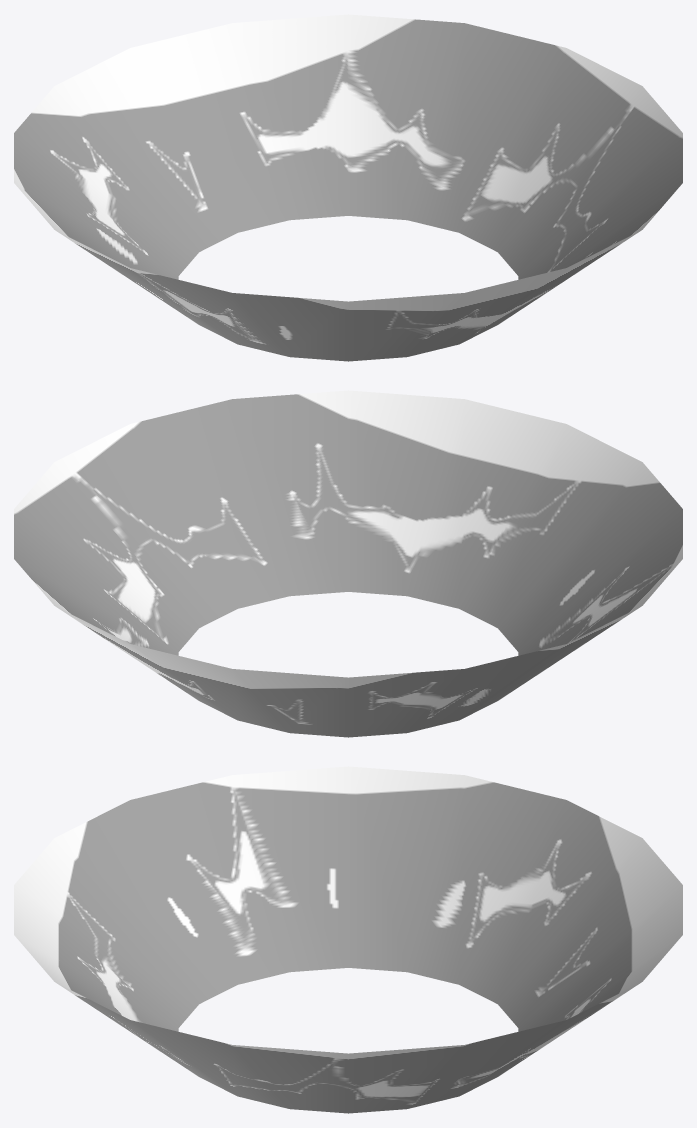
The model's file is eff_cylinder_s_05.FBX.
3 renders of one model, top to bottom at view 1: azimuth 30°, elevation 25°; view 2: azimuth 150°, elevation 25°; view 3: azimuth 270°, elevation 25°, orthographic.
Parts seen in each view (by area): view 1: eff_cylinder_s_05; view 2: eff_cylinder_s_05; view 3: eff_cylinder_s_05.
Part boxes in pixels (x1,y1,x2,y2): eff_cylinder_s_05: [14, 14, 682, 361]; eff_cylinder_s_05: [14, 390, 682, 737]; eff_cylinder_s_05: [14, 766, 682, 1113].
Bounding box in the file's own units: 9.56 × 2.03 × 9.42.
